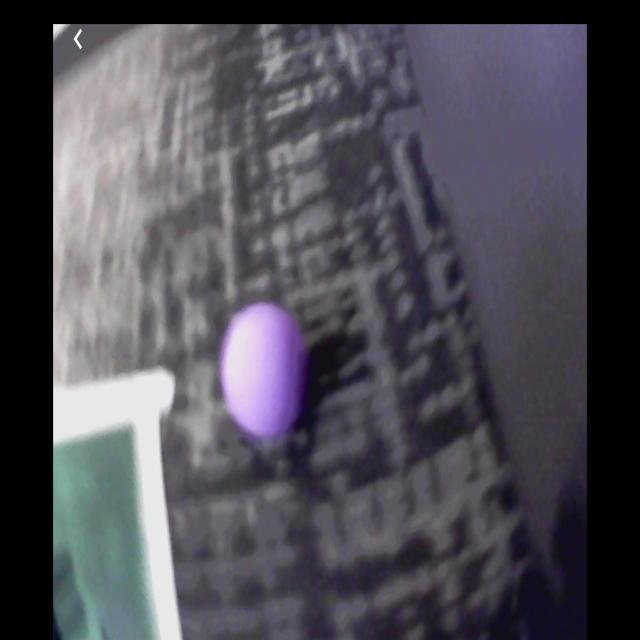ball: (223, 304, 307, 448)
